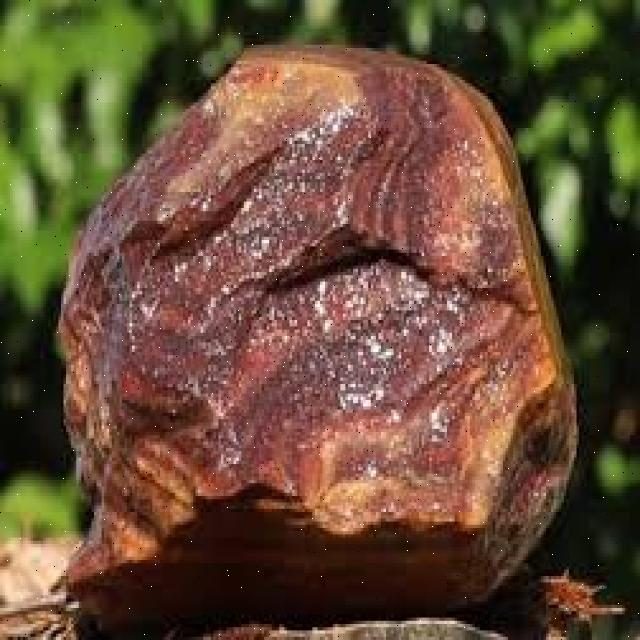Metamorphic: (43, 26, 584, 614)
